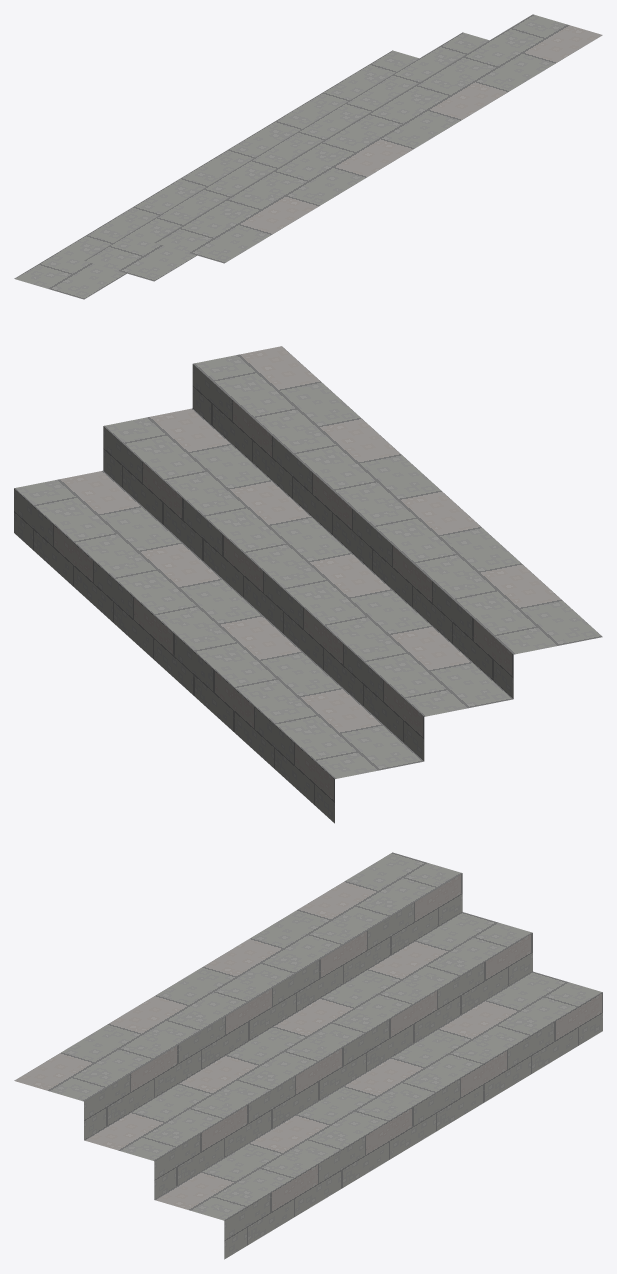
File: kd_stage_135ebf_2_30.glb
The picture shows the model from 3 angles, top to bottom: view 1: azimuth 90°, elevation 25°; view 2: azimuth 150°, elevation 25°; view 3: azimuth 270°, elevation 25°; orthographic projection. The views are drawn at different scales.
Visible parts, largest first — view 1: kd_stage_135ebf_2_30; view 2: kd_stage_135ebf_2_30; view 3: kd_stage_135ebf_2_30.
Boxes of the visible parts, x1,y1,x2,y2 form: kd_stage_135ebf_2_30: (14, 14, 602, 299); kd_stage_135ebf_2_30: (14, 346, 602, 823); kd_stage_135ebf_2_30: (14, 852, 602, 1259).
Size of the model in its own units: 3.21 by 0.6 by 2.75.
Materials: 1 (1 with a texture image).
